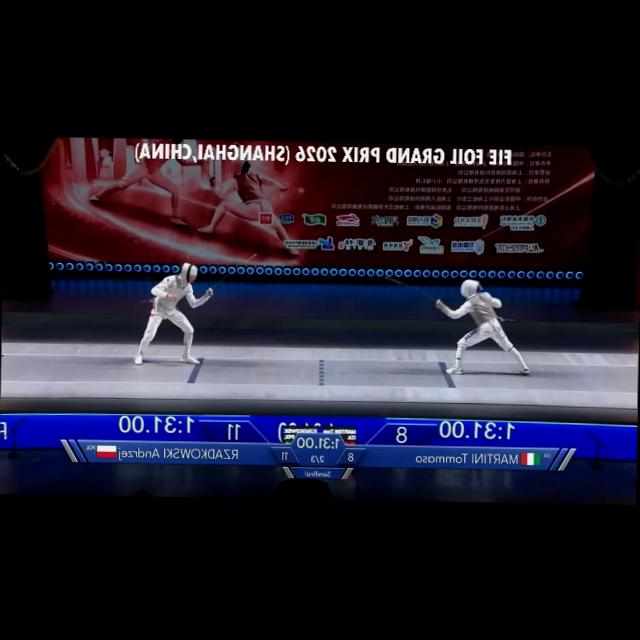blade: (205, 250, 261, 300), (379, 272, 446, 306)
